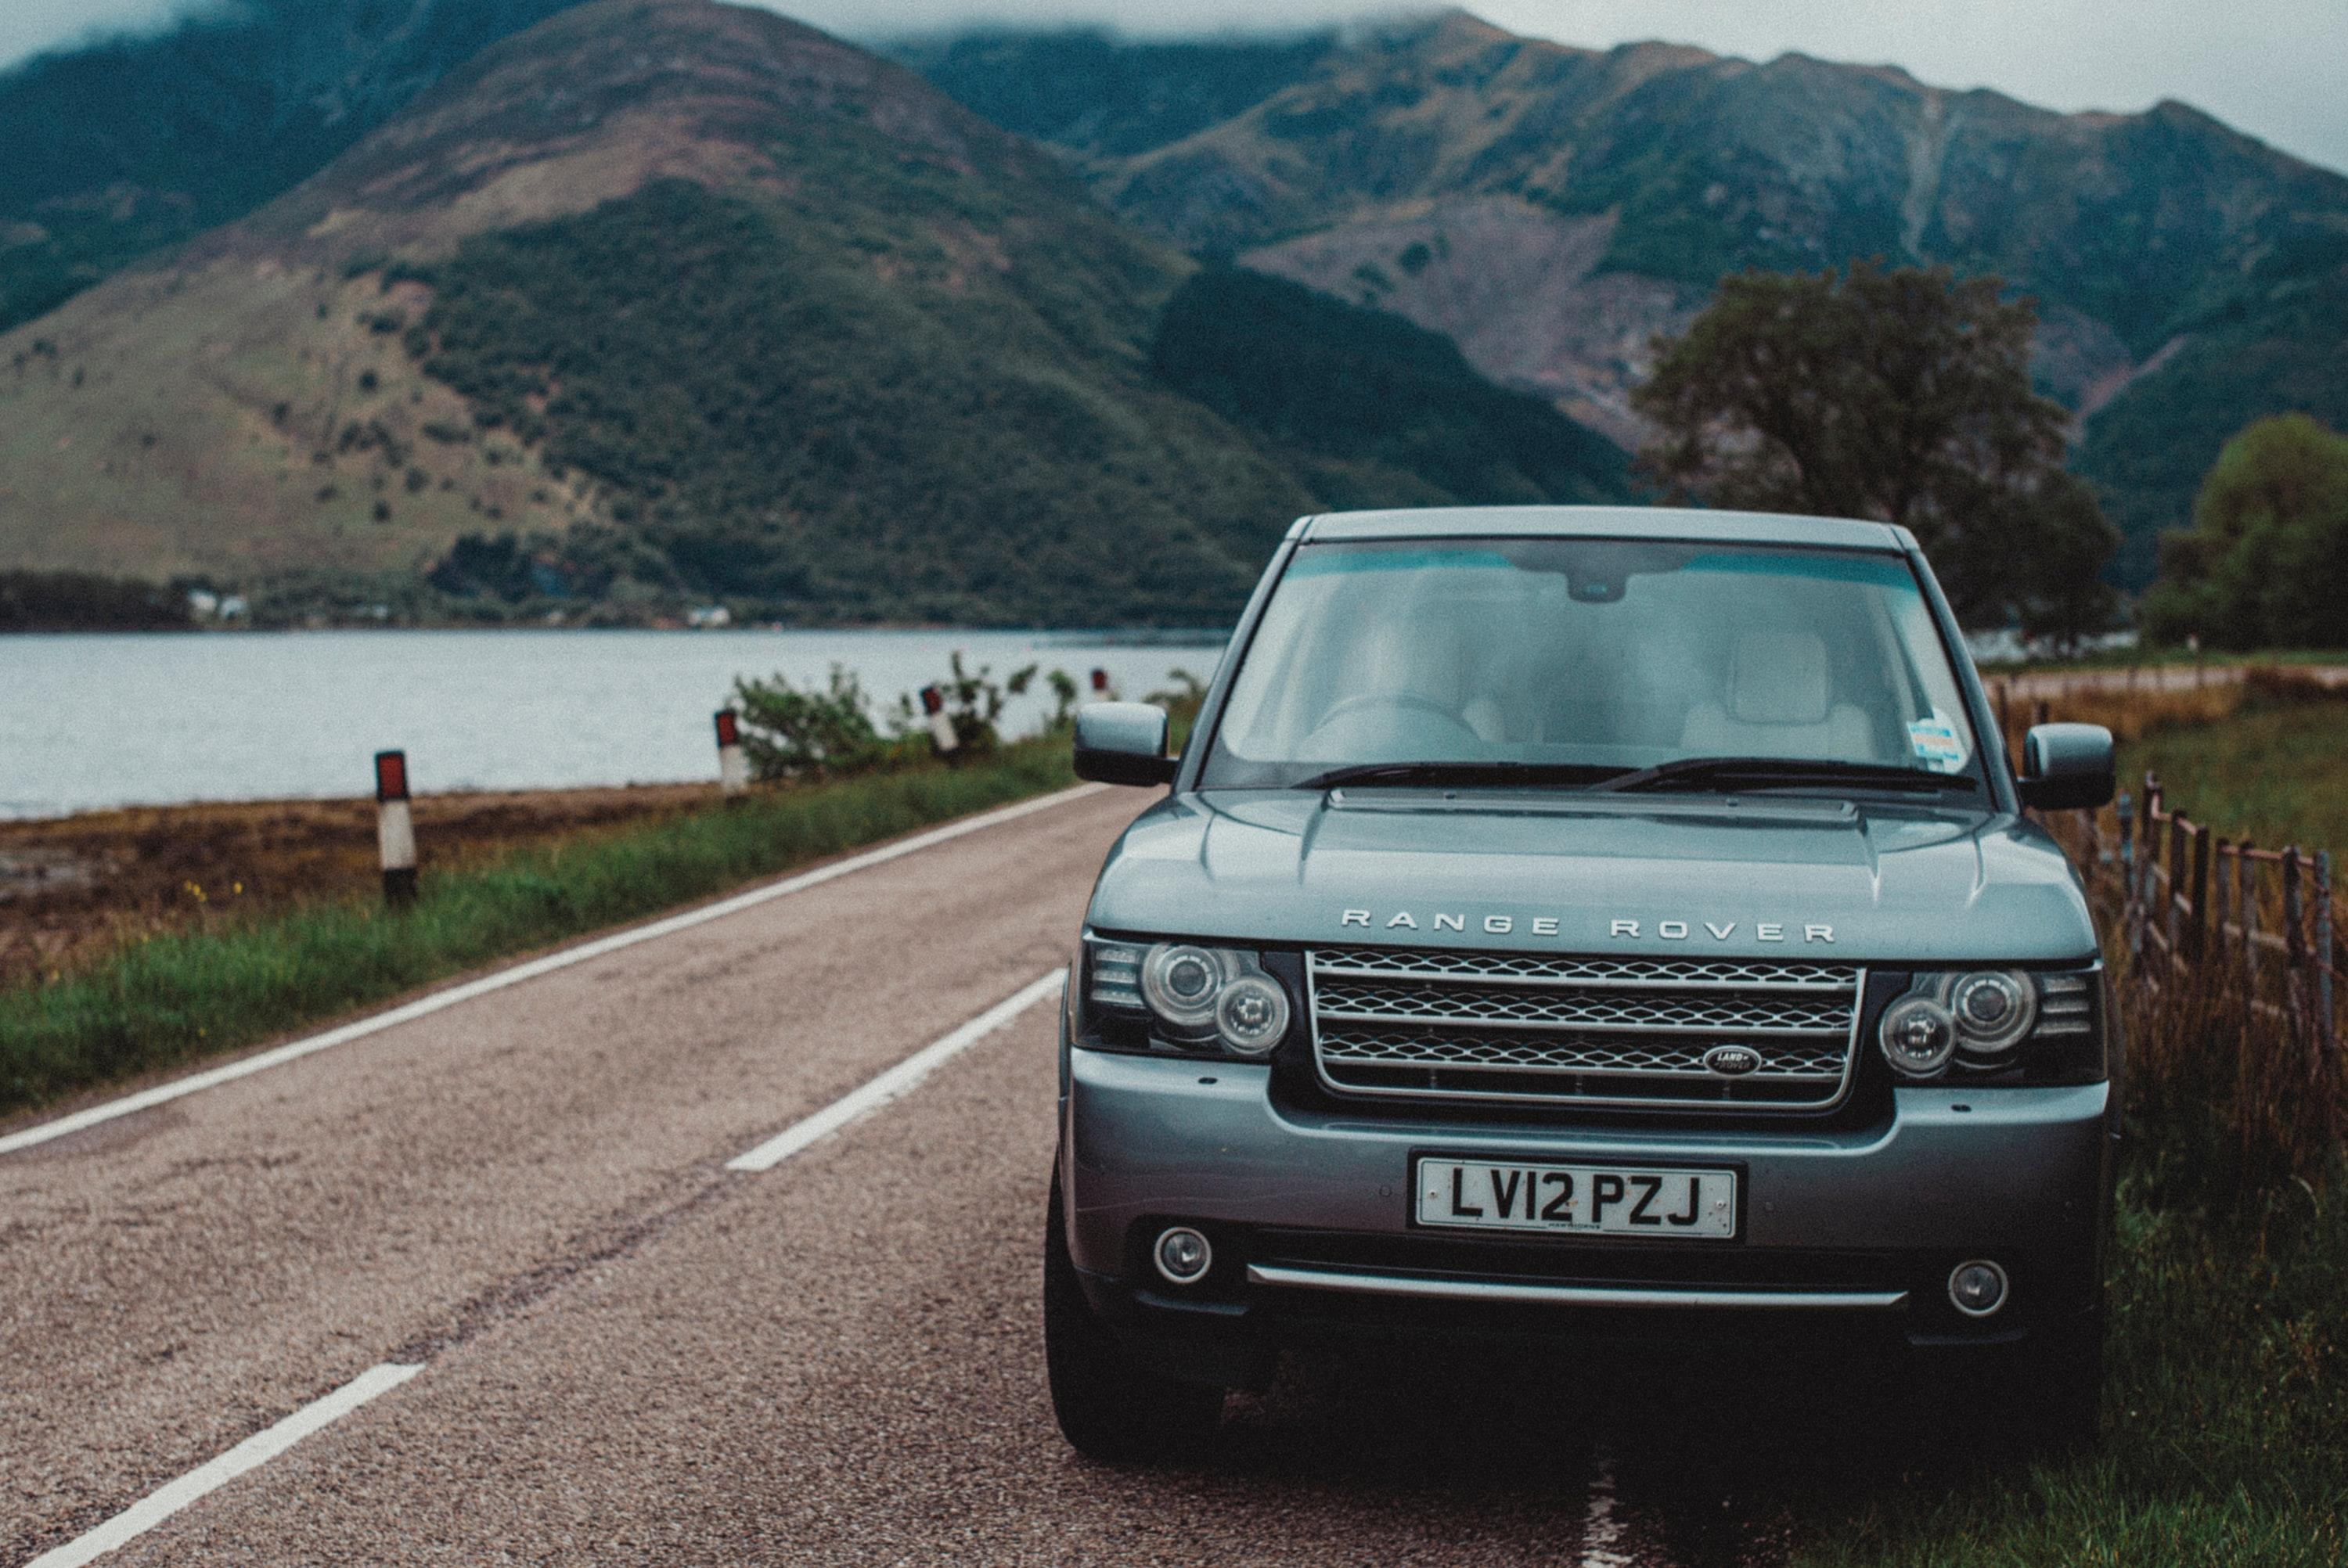range rover: (1309, 880, 1858, 964)
